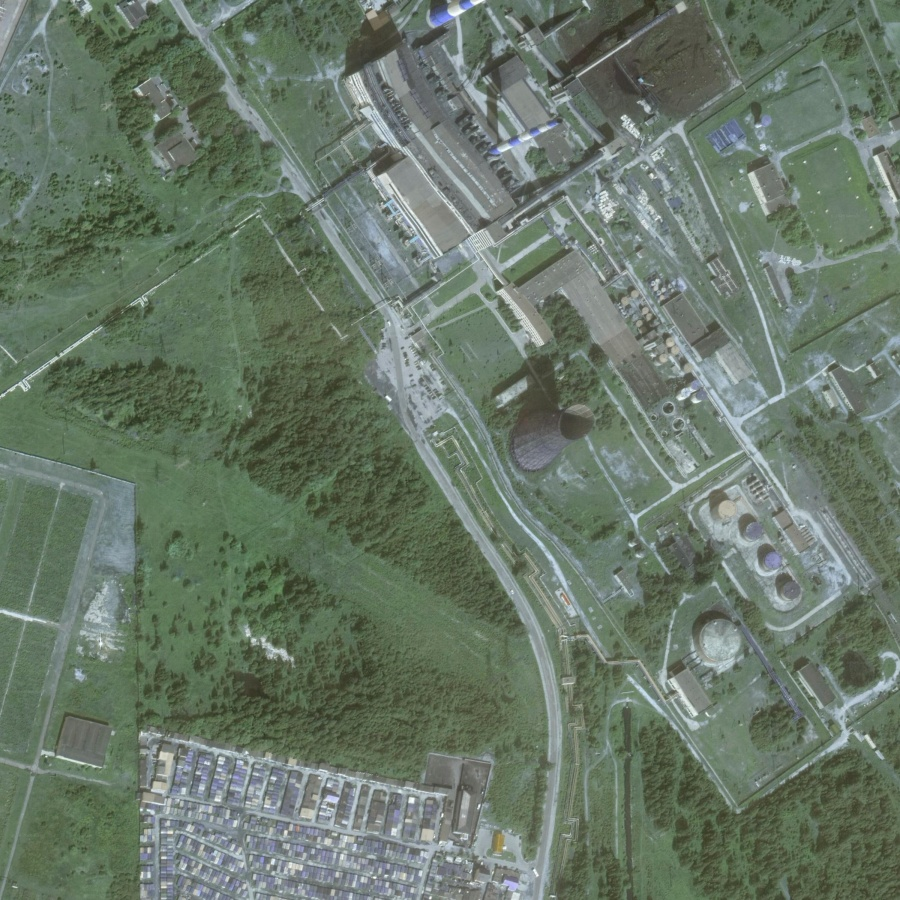PowerPlant: (485, 353, 614, 483), (699, 484, 802, 603)
